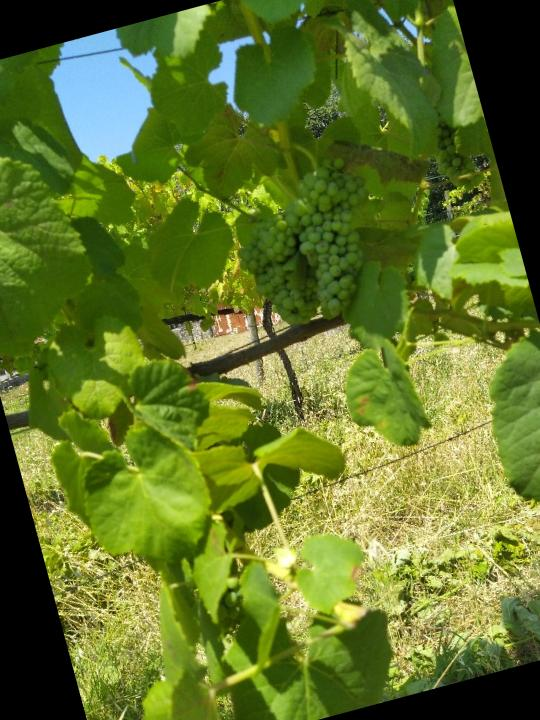grape: (277, 148, 399, 324), (228, 210, 330, 340)
